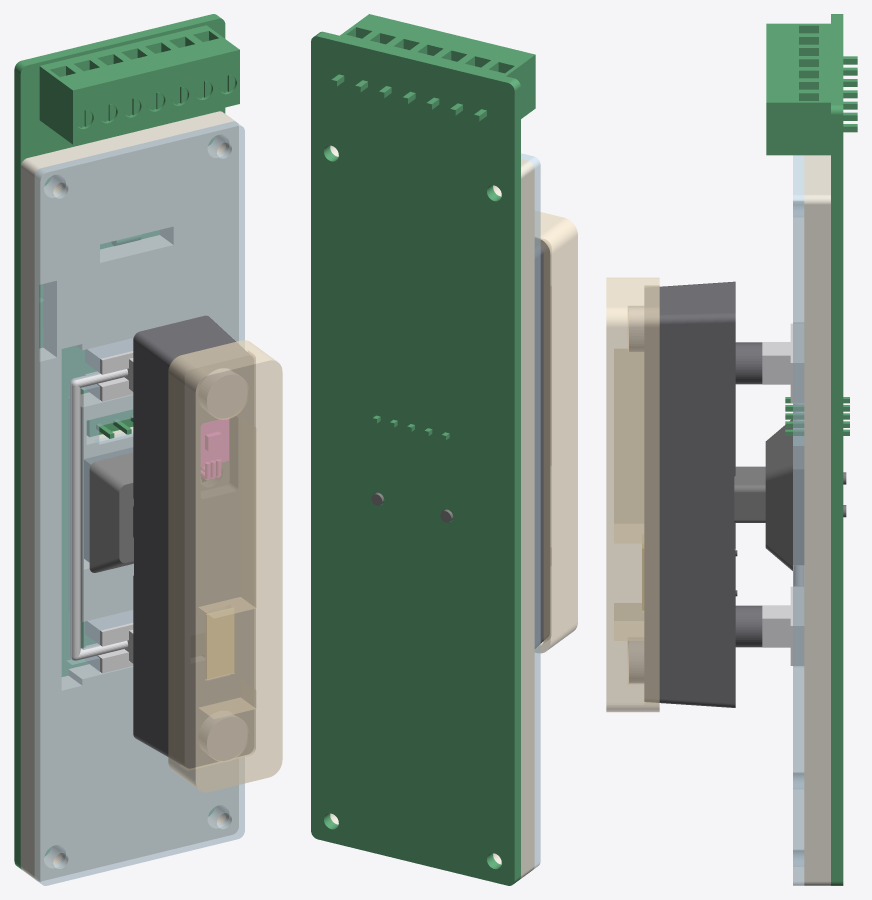
The model's file is stack_assembled.glb.
3 views of the same model, side by side, from view 1: azimuth 30°, elevation 25°; view 2: azimuth 150°, elevation 25°; view 3: azimuth 270°, elevation 25° (orthographic). The views are drawn at different scales.
Parts seen in each view (by area): view 1: 2_foam, 3_acrylic_plate, 5_topper, 4_key, 1_pcb, 3b_stabilizer, 3a_switch, 5a_magnets_topper, 5b_short_plate, 4a_rgb_led_strip_piece; view 2: 1_pcb, 5_topper, 2_foam, 4_key, 3_acrylic_plate; view 3: 4_key, 5_topper, 1_pcb, 2_foam, 3_acrylic_plate, 3a_switch, 3b_stabilizer, 5a_magnets_topper.
Boxes of the visible parts, x1=… form: 2_foam: x1=20, y1=111, x2=238, y2=881; 3_acrylic_plate: x1=34, y1=121, x2=244, y2=885; 5_topper: x1=168, y1=340, x2=282, y2=792; 4_key: x1=133, y1=315, x2=253, y2=768; 1_pcb: x1=14, y1=14, x2=239, y2=869; 3b_stabilizer: x1=69, y1=338, x2=133, y2=673; 3a_switch: x1=84, y1=447, x2=133, y2=572; 5a_magnets_topper: x1=199, y1=369, x2=247, y2=760; 5b_short_plate: x1=206, y1=614, x2=233, y2=678; 4a_rgb_led_strip_piece: x1=201, y1=419, x2=228, y2=480; 1_pcb: x1=311, y1=14, x2=535, y2=885; 5_topper: x1=535, y1=211, x2=577, y2=653; 2_foam: x1=330, y1=145, x2=534, y2=879; 4_key: x1=535, y1=240, x2=549, y2=648; 3_acrylic_plate: x1=521, y1=153, x2=540, y2=869; 4_key: x1=644, y1=281, x2=762, y2=707; 5_topper: x1=606, y1=277, x2=659, y2=712; 1_pcb: x1=766, y1=14, x2=857, y2=885; 2_foam: x1=804, y1=155, x2=830, y2=885; 3_acrylic_plate: x1=793, y1=155, x2=804, y2=885; 3a_switch: x1=734, y1=419, x2=846, y2=570; 3b_stabilizer: x1=762, y1=323, x2=803, y2=665; 5a_magnets_topper: x1=629, y1=306, x2=643, y2=682.
Size of the model in its own units: 30 by 113 by 33.
